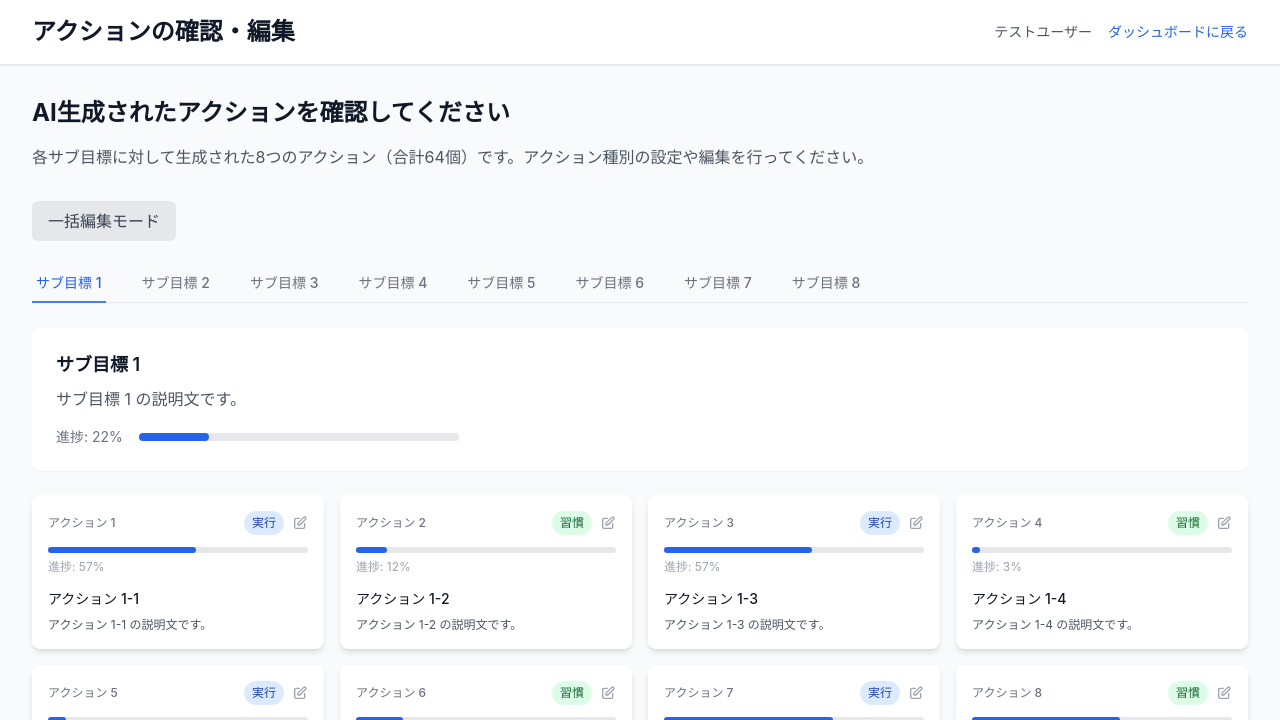
Test: ActionEditPage › ツールバー › 一括編集モードを切り替えできる
The image size is (1280, 720).
Click the button "一括編集モード".
click(104, 221)  # box x1=32 y1=201 x2=176 y2=241
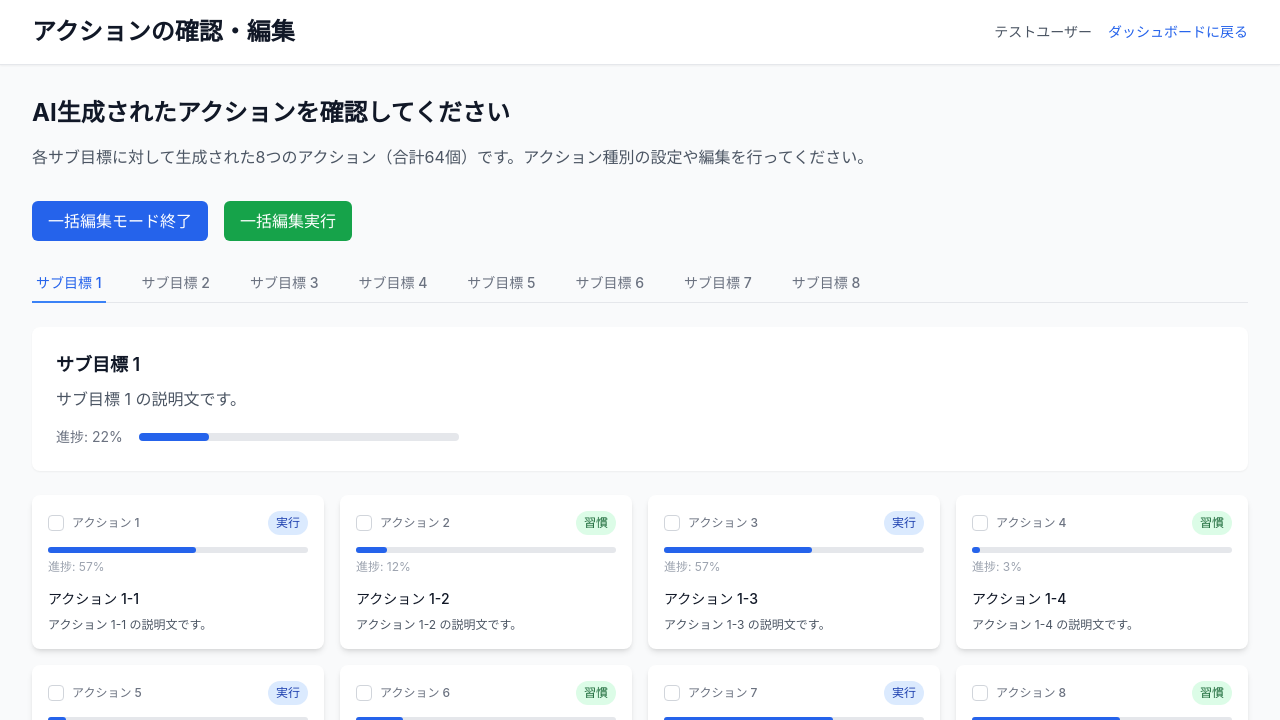
Check: the button "一括編集モード終了" is shown, box x1=32 y1=201 x2=208 y2=241
